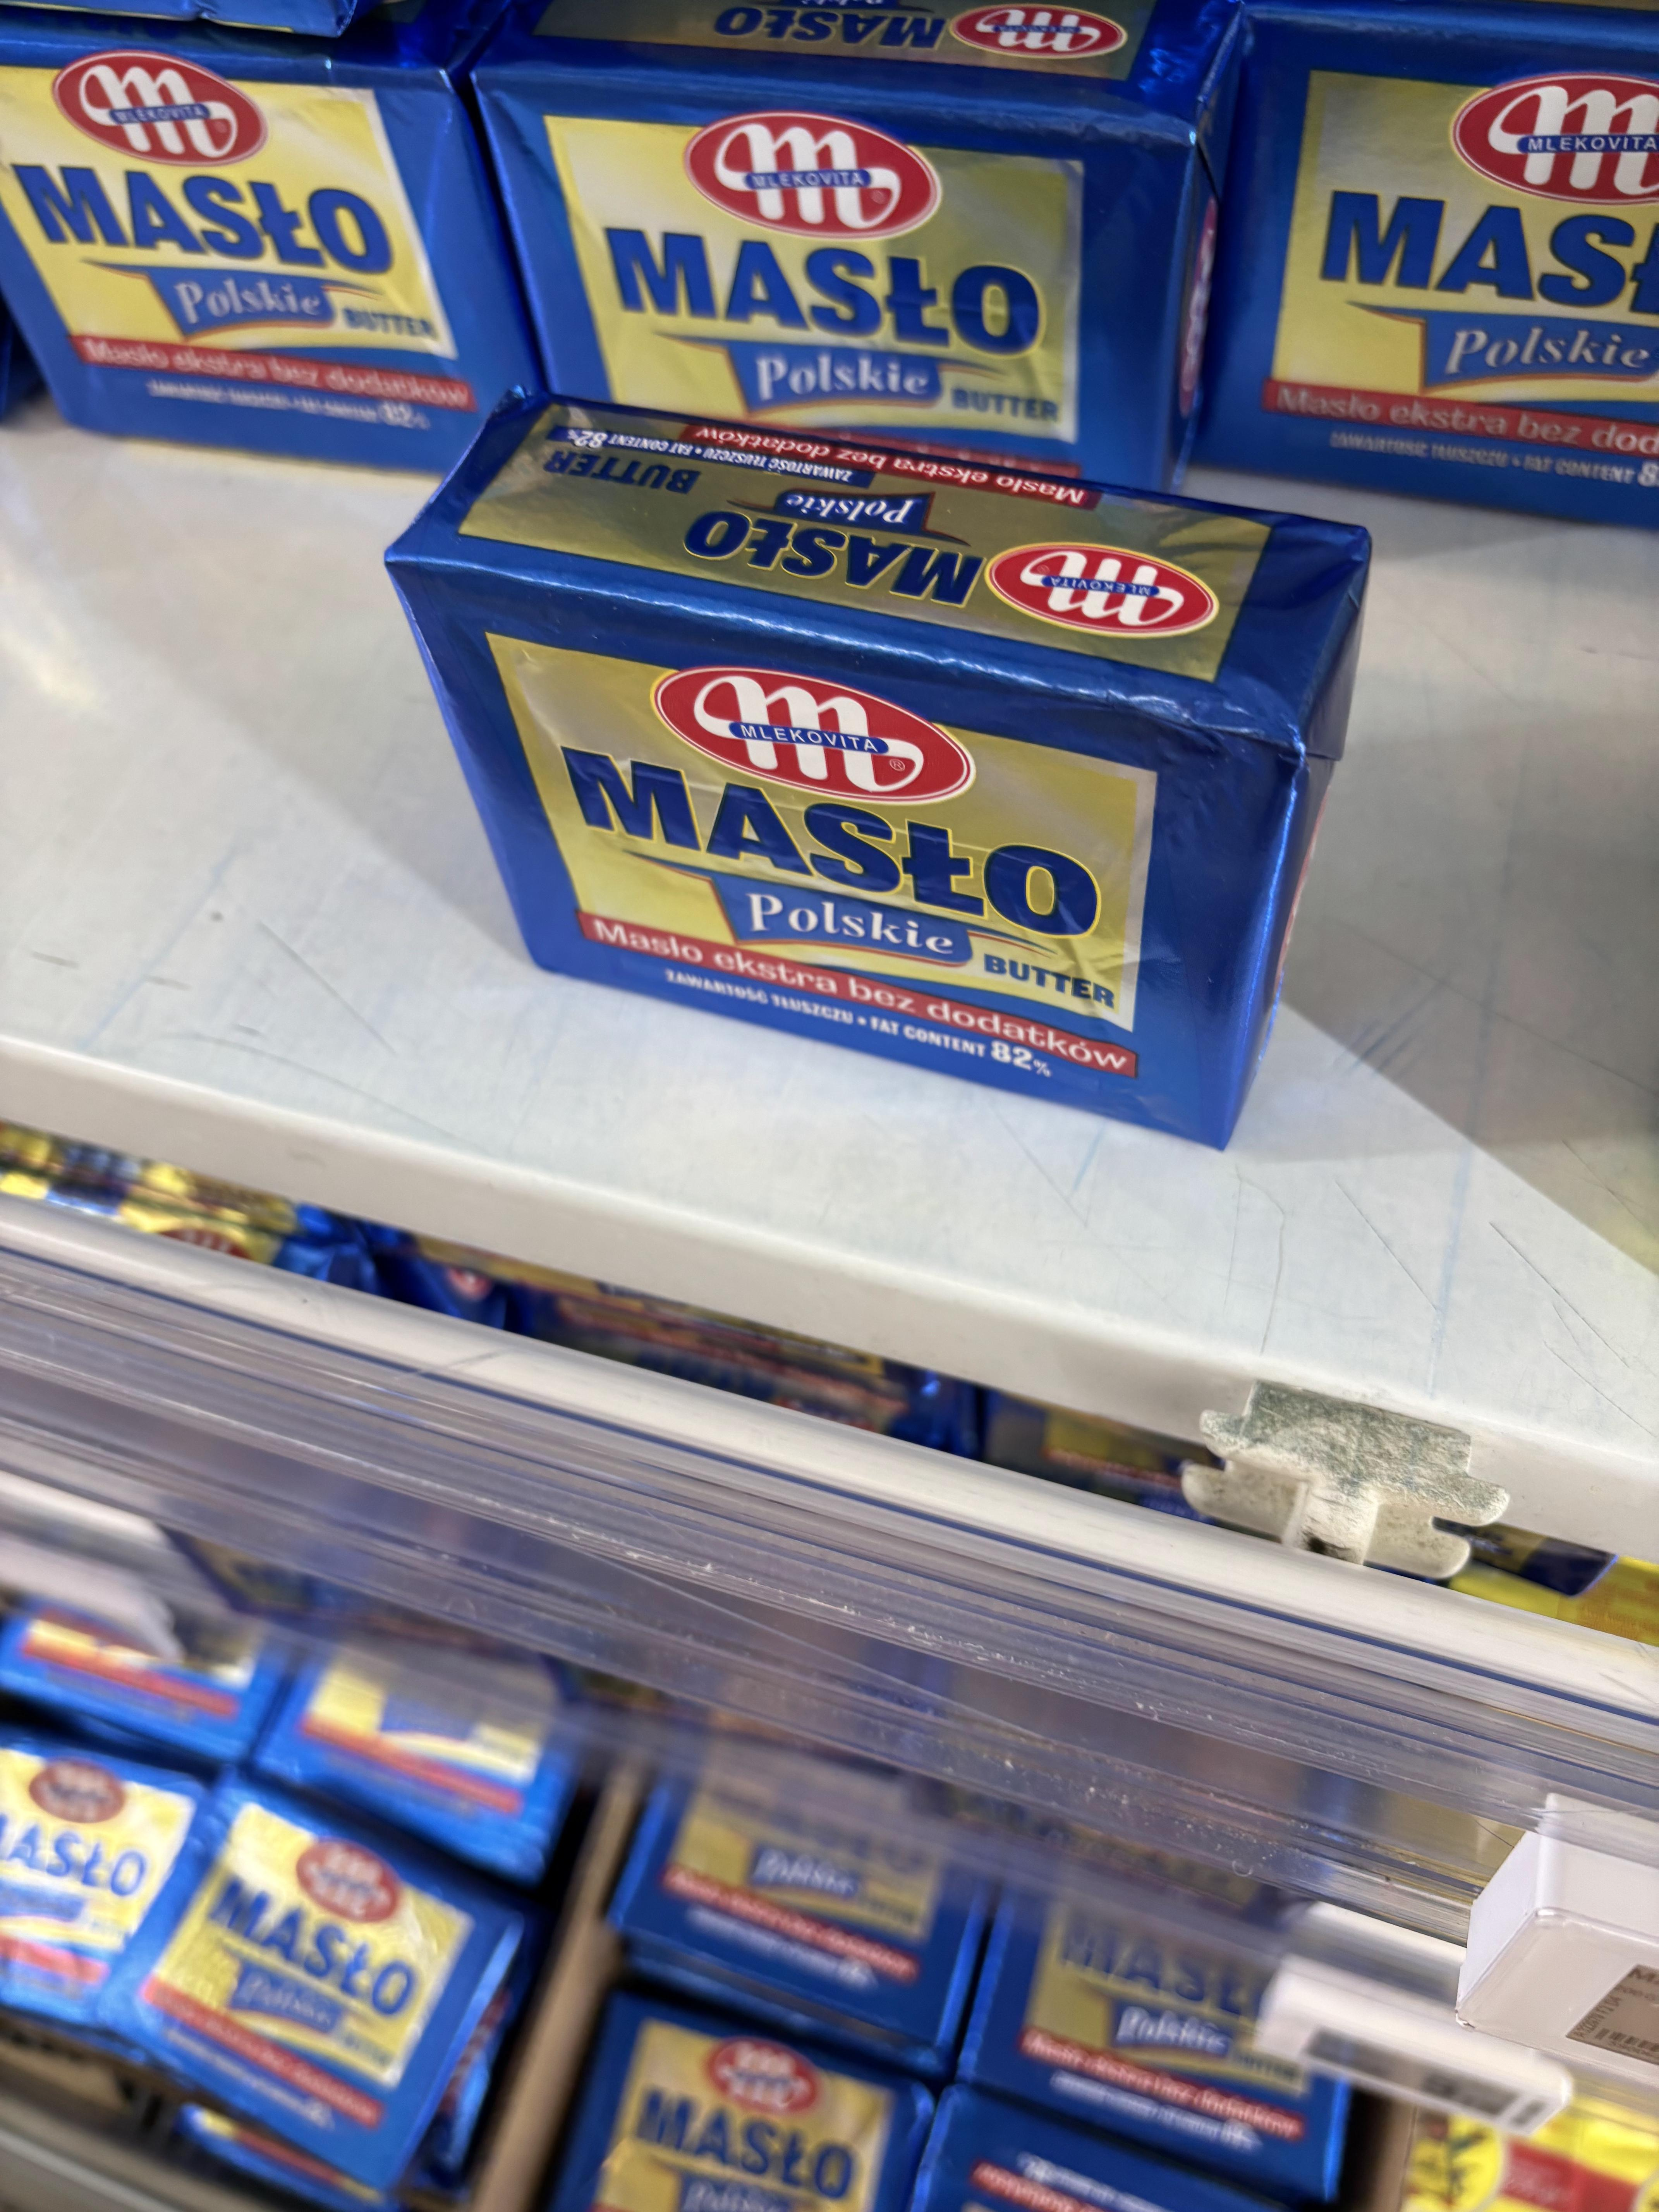Butter: (396, 406, 1413, 1181)
